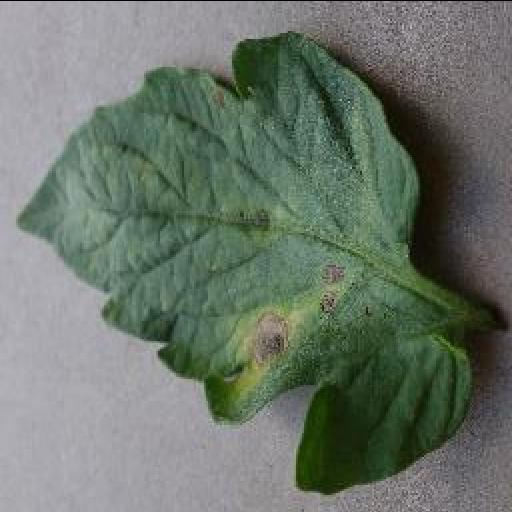disease_tomato: (14, 30, 472, 492)
